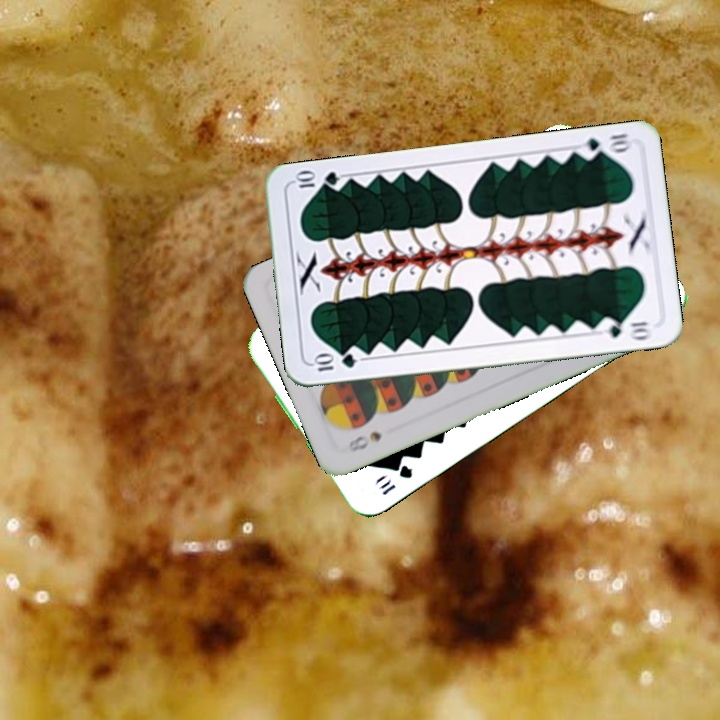G10: (575, 129, 634, 162), (374, 460, 416, 498), (309, 350, 359, 374)
S8: (344, 427, 385, 455)
